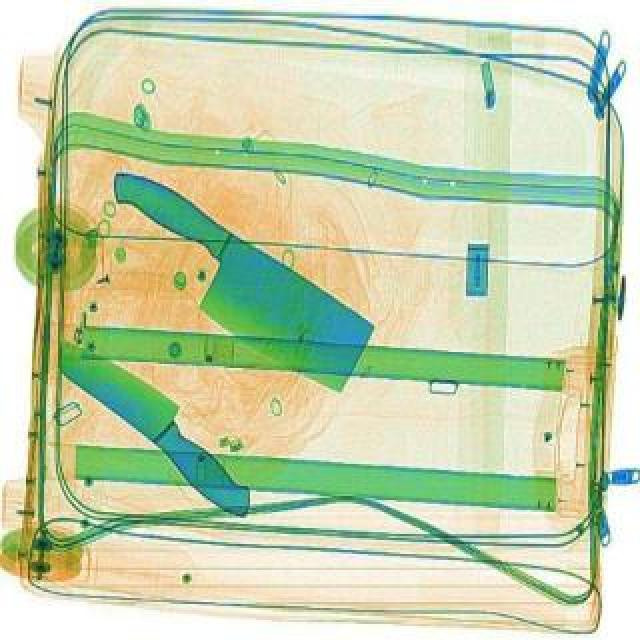knife: (72, 144, 392, 408), (42, 314, 278, 522)
